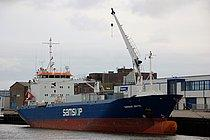Ship: (12, 5, 190, 139)
